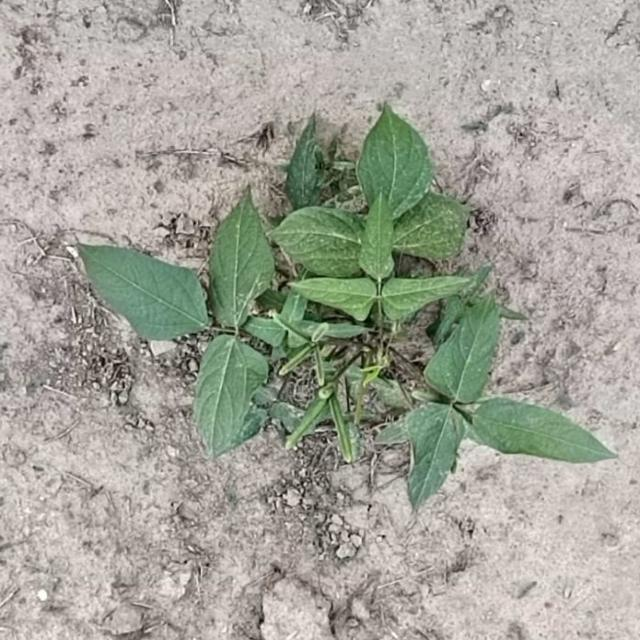plant: (78, 105, 612, 504)
